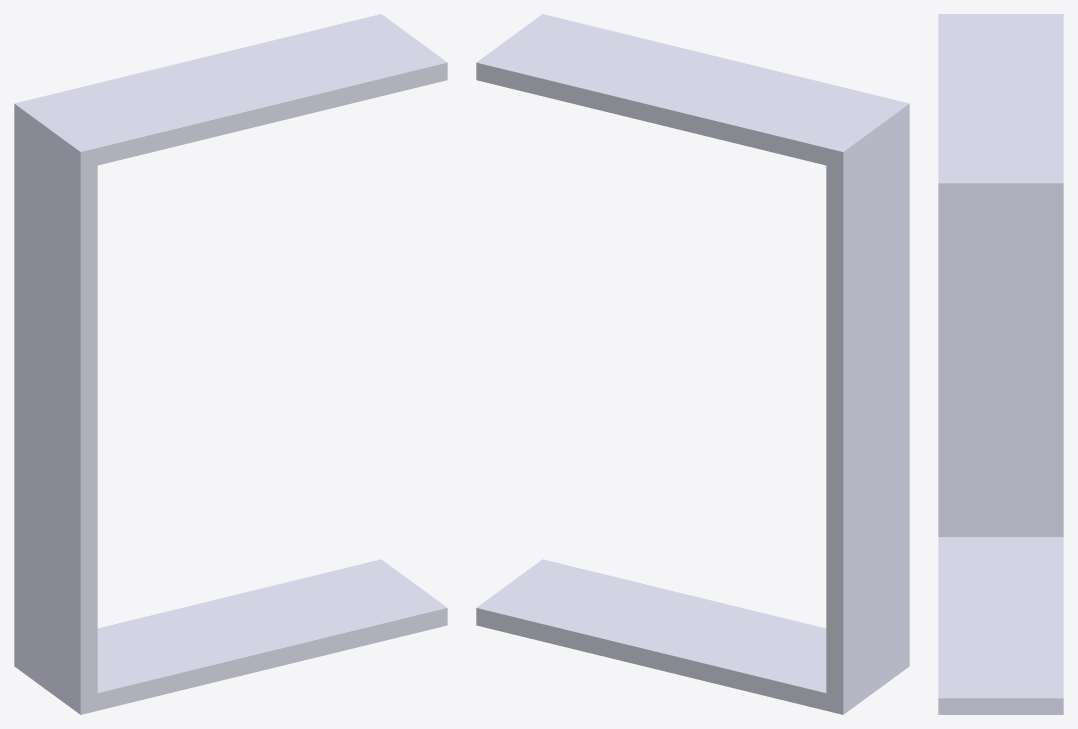
3 views of the same model, side by side, from view 1: azimuth 30°, elevation 25°; view 2: azimuth 150°, elevation 25°; view 3: azimuth 270°, elevation 25° (orthographic). The views are drawn at different scales.
Visible parts, largest first — view 1: c_AlphaProta_Grey; view 2: c_AlphaProta_Grey; view 3: c_AlphaProta_Grey.
Part boxes in pixels (left/top/right/bottom): c_AlphaProta_Grey: left=14, top=14, right=447, bottom=714; c_AlphaProta_Grey: left=476, top=14, right=909, bottom=714; c_AlphaProta_Grey: left=938, top=14, right=1063, bottom=714.
Size of what is drawn, in the model's own units: 0.1436 by 0.2105 by 0.045.
Materials: 2 (2 with a texture image).
